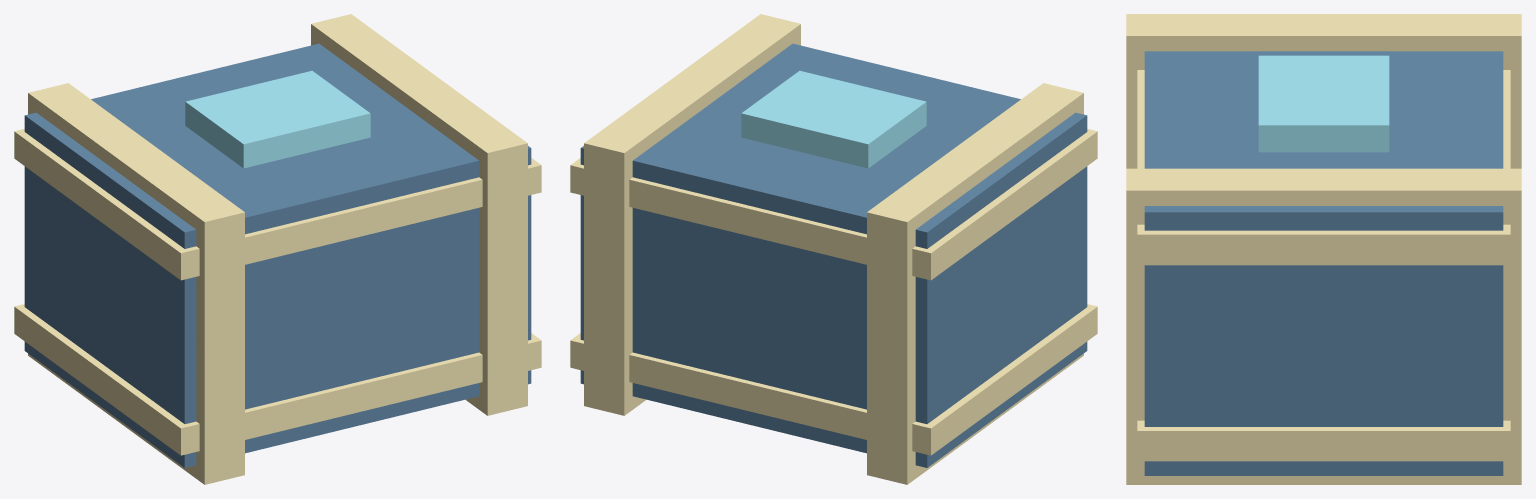
File: box_bonus.glb
3 renders of one model, left to right at view 1: azimuth 30°, elevation 25°; view 2: azimuth 150°, elevation 25°; view 3: azimuth 270°, elevation 25°, orthographic. The views are drawn at different scales.
Visible parts, largest first — view 1: crate_core, reinforce_x_-1, reinforce_x_1, reinforce_y_-1, reinforce_y_1, scanner; view 2: crate_core, reinforce_x_-1, reinforce_x_1, reinforce_y_-1, reinforce_y_1, scanner; view 3: crate_core, reinforce_x_1, reinforce_x_-1, reinforce_y_1, reinforce_y_-1, scanner.
Boxes of the visible parts, x1,y1,x2,y2 form: crate_core: (24,43,531,467); reinforce_x_-1: (28,83,244,484); reinforce_x_1: (311,14,527,415); reinforce_y_-1: (14,304,541,455); reinforce_y_1: (14,129,541,280); scanner: (185,70,370,168); crate_core: (580,43,1087,467); reinforce_x_-1: (867,83,1083,484); reinforce_x_1: (584,14,800,415); reinforce_y_-1: (570,304,1097,455); reinforce_y_1: (570,129,1097,280); scanner: (741,70,926,168); crate_core: (1144,51,1503,475); reinforce_x_1: (1126,168,1521,484); reinforce_x_-1: (1126,14,1521,168); reinforce_y_1: (1137,70,1510,265); reinforce_y_-1: (1137,420,1510,461); scanner: (1258,55,1389,152).
Bounding box in the file's own units: 1.25 × 0.905 × 1.06.
